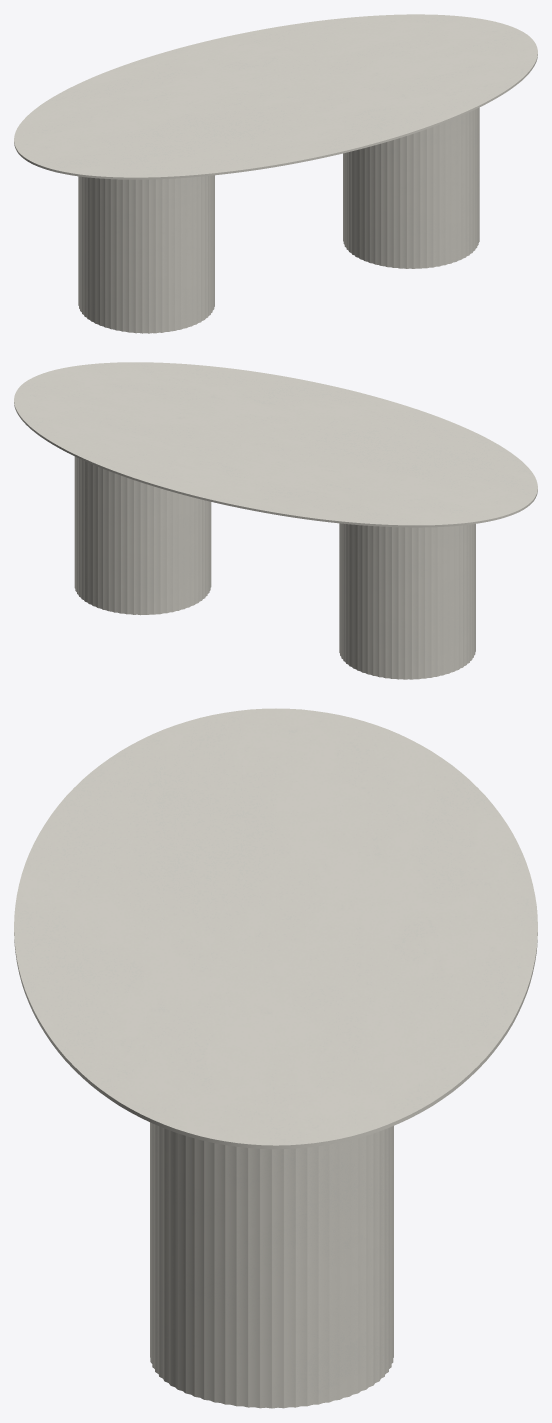
Rendered from pale_ellips_facet_ripplesecond.glb.
3 views of the same model, one above another, from view 1: azimuth 30°, elevation 25°; view 2: azimuth 150°, elevation 25°; view 3: azimuth 270°, elevation 25° (orthographic). The views are drawn at different scales.
Visible parts, largest first — view 1: facet_ellips, ripplesecond; view 2: facet_ellips, ripplesecond; view 3: facet_ellips, ripplesecond.
Part boxes in pixels (x1,y1,x2,y2): facet_ellips: (14,14,537,179); ripplesecond: (78,107,479,333); facet_ellips: (14,362,537,527); ripplesecond: (74,456,475,679); facet_ellips: (14,708,537,1149); ripplesecond: (150,1122,393,1408).
Bounding box in the file's own units: 7.5 × 2.51 × 3.8.
1 material, 1 textured.
